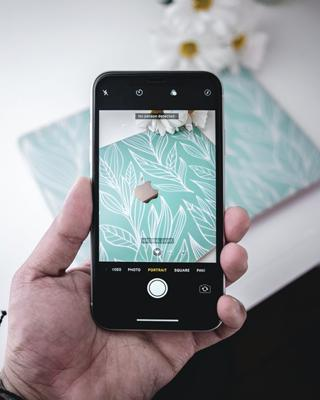cell-phone: (89, 69, 224, 334)
